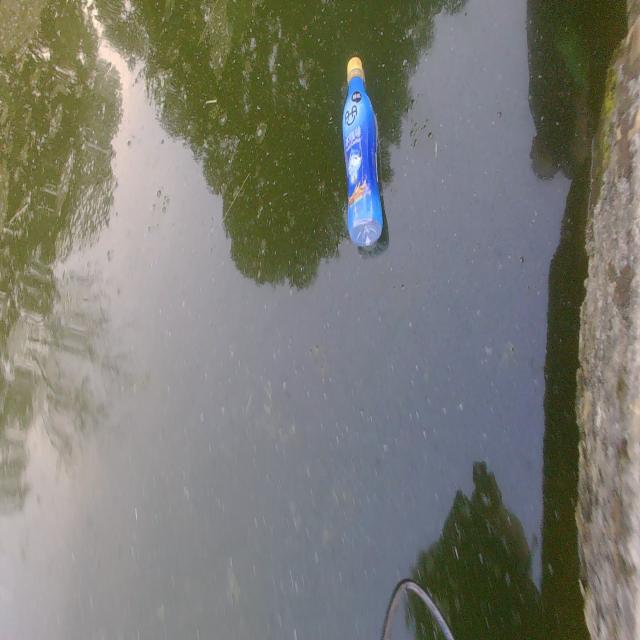Bottle: (338, 55, 386, 247)
